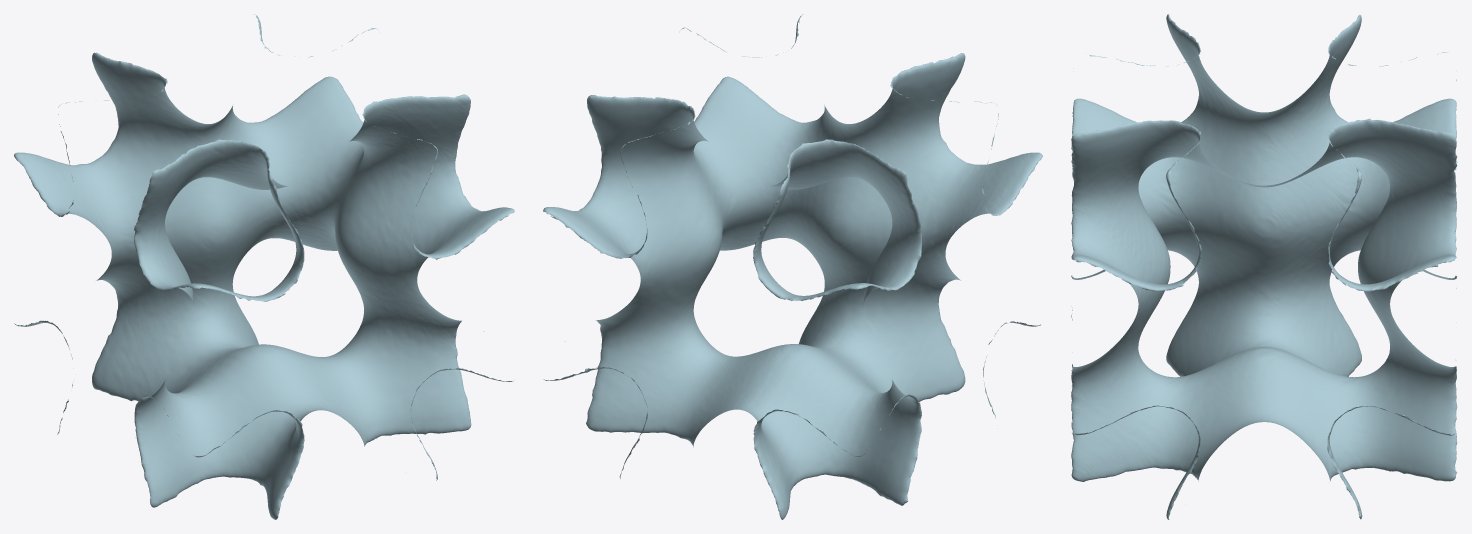
Rendered from math_surface.glb.
3 renders of one model, left to right at view 1: azimuth 30°, elevation 25°; view 2: azimuth 150°, elevation 25°; view 3: azimuth 270°, elevation 25°, orthographic. The views are drawn at different scales.
Visible parts, largest first — view 1: math_surface.obj; view 2: math_surface.obj; view 3: math_surface.obj.
Part boxes in pixels (<box>): math_surface.obj: <box>14,14,514,519</box>; math_surface.obj: <box>543,14,1042,519</box>; math_surface.obj: <box>1071,14,1457,519</box>.
Size of the model in its own units: 1.02 by 1.02 by 1.02.
